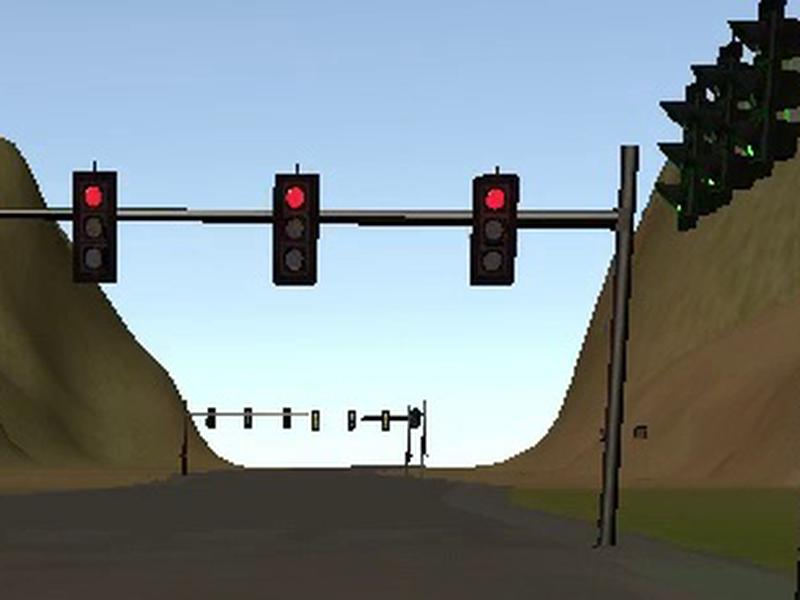Red: (469, 174, 520, 287), (271, 173, 320, 287), (72, 171, 116, 283)
